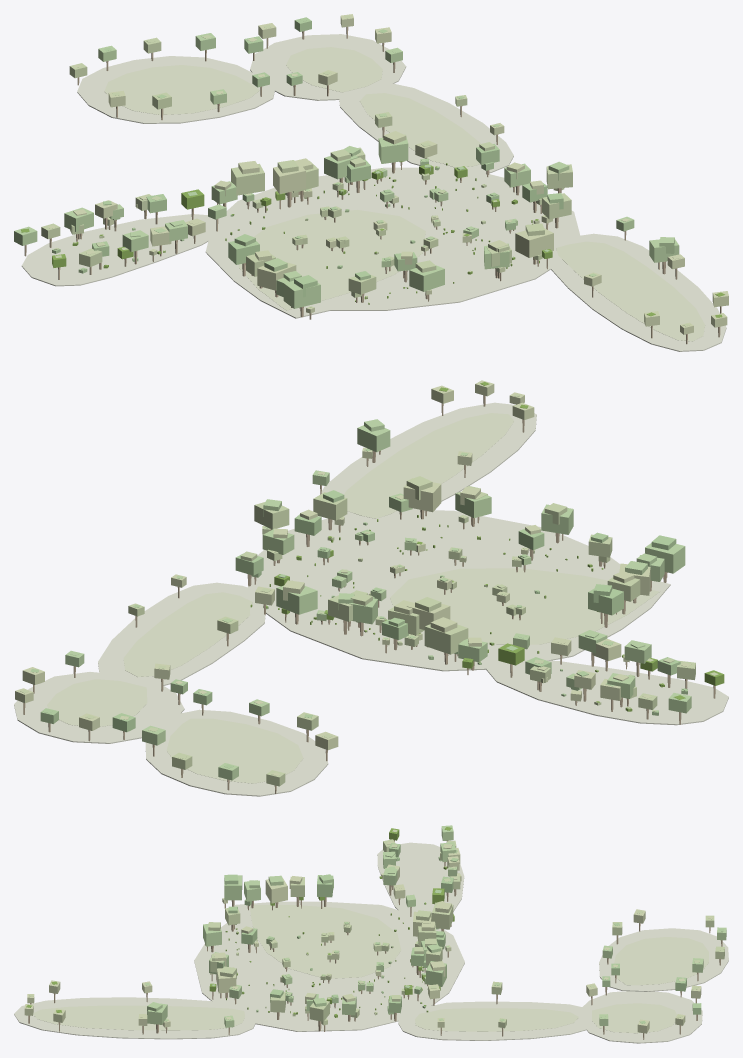
Rendered from pradera_derecha_original.glb.
3 views of the same model, one above another, from view 1: azimuth 30°, elevation 25°; view 2: azimuth 150°, elevation 25°; view 3: azimuth 270°, elevation 25° (orthographic). The views are drawn at different scales.
Parts seen in each view (by area): view 1: RightMeadow, RightPath, ExitDownPath, ExitMeadow, ExitDownMeadow, Hub2LeftPath, Hub2LeftMeadow, Hub2Meadow, ExitUpPath, ExitUpMeadow, Hub2Path, right_tree_crown_22 (+6 smaller); view 2: RightMeadow, RightPath, ExitMeadow, ExitDownPath, Hub2LeftPath, ExitDownMeadow, ExitUpPath, ExitUpMeadow, Hub2LeftMeadow, Hub2Meadow, Hub2Path, right_tree_crown_14 (+8 smaller); view 3: RightMeadow, RightPath, ExitDownPath, ExitDownMeadow, Hub2LeftPath, ExitUpMeadow, ExitMeadow, ExitUpPath, Hub2Meadow, Hub2LeftMeadow, Hub2Path, right_tree_crown_2 (+1 smaller).
Part boxes in pixels (bbox=[...]): RightMeadow: bbox=[205, 167, 581, 318]; RightPath: bbox=[238, 210, 425, 310]; ExitDownPath: bbox=[556, 241, 705, 341]; ExitMeadow: bbox=[21, 214, 229, 286]; ExitDownMeadow: bbox=[548, 233, 726, 351]; Hub2LeftPath: bbox=[104, 65, 259, 114]; Hub2LeftMeadow: bbox=[77, 56, 274, 123]; Hub2Meadow: bbox=[250, 34, 406, 100]; ExitUpPath: bbox=[360, 93, 481, 167]; ExitUpMeadow: bbox=[339, 81, 513, 173]; Hub2Path: bbox=[286, 47, 382, 92]; right_tree_crown_22: bbox=[515, 228, 553, 257]; RightMeadow: bbox=[247, 509, 670, 671]; RightPath: bbox=[390, 568, 659, 644]; ExitMeadow: bbox=[486, 660, 728, 725]; ExitDownPath: bbox=[344, 413, 513, 518]; Hub2LeftPath: bbox=[166, 718, 303, 783]; ExitDownMeadow: bbox=[321, 402, 536, 523]; ExitUpPath: bbox=[123, 592, 252, 676]; ExitUpMeadow: bbox=[98, 582, 270, 689]; Hub2LeftMeadow: bbox=[145, 709, 328, 796]; Hub2Meadow: bbox=[14, 672, 184, 743]; Hub2Path: bbox=[47, 679, 147, 726]; right_tree_crown_14: bbox=[424, 624, 468, 654]; RightMeadow: bbox=[194, 901, 464, 1031]; RightPath: bbox=[250, 905, 401, 978]; ExitDownPath: bbox=[33, 1005, 244, 1030]; ExitDownMeadow: bbox=[14, 997, 256, 1039]; Hub2LeftPath: bbox=[614, 937, 708, 985]; ExitUpMeadow: bbox=[398, 1001, 596, 1040]; ExitMeadow: bbox=[377, 842, 464, 921]; ExitUpPath: bbox=[415, 1008, 578, 1031]; Hub2Meadow: bbox=[580, 991, 702, 1043]; Hub2LeftMeadow: bbox=[599, 928, 728, 991]; Hub2Path: bbox=[592, 1003, 676, 1033]; right_tree_crown_2: bbox=[265, 877, 287, 903].
Size of what is drawn, in the model's own units: 119 by 9.75 by 179.
